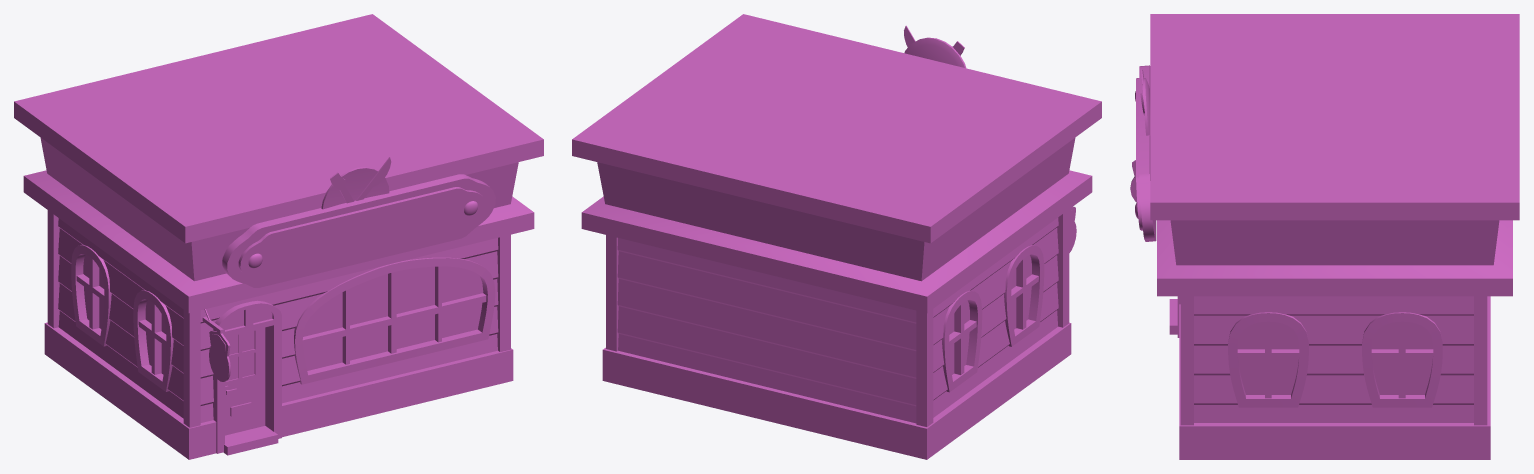
File: house_test.fbx
The picture shows the model from 3 angles, left to right: view 1: azimuth 30°, elevation 25°; view 2: azimuth 150°, elevation 25°; view 3: azimuth 270°, elevation 25°; orthographic projection. The views are drawn at different scales.
Visible parts, largest first — view 1: Box007; view 2: Box007; view 3: Box007.
Part boxes in pixels (x1,y1,x2,y2): Box007: [14, 14, 543, 459]; Box007: [572, 14, 1101, 459]; Box007: [1130, 14, 1519, 459].
Size of the model in its own units: 99.97 by 72.42 by 87.22.
